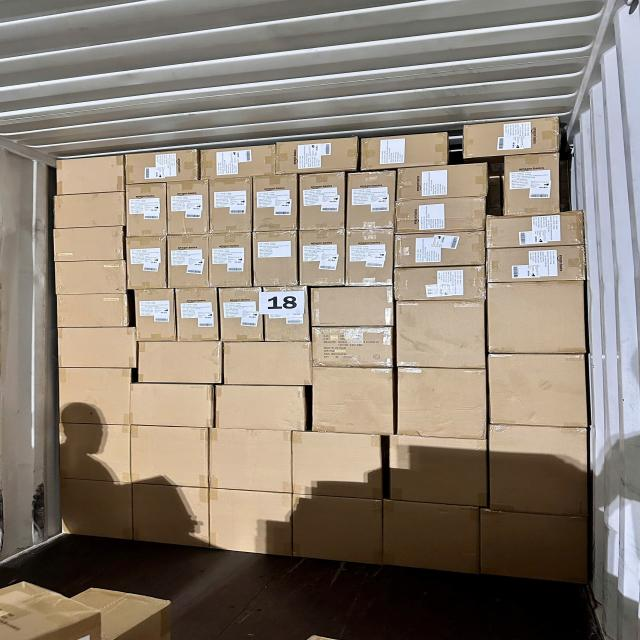Carton: (491, 430, 590, 519), (478, 512, 588, 589), (383, 500, 481, 579), (487, 351, 587, 427), (486, 280, 586, 354), (389, 433, 489, 505), (294, 496, 386, 569), (294, 430, 388, 500), (397, 364, 488, 436), (397, 168, 490, 236), (396, 302, 486, 372), (311, 368, 395, 438), (206, 491, 291, 560), (208, 429, 292, 495), (129, 427, 209, 490), (134, 488, 212, 552), (62, 478, 135, 542), (60, 421, 134, 483), (56, 367, 130, 428), (216, 386, 308, 434), (221, 340, 310, 386), (136, 341, 223, 386), (462, 119, 561, 158), (130, 384, 213, 430), (505, 156, 562, 218), (309, 284, 393, 326), (489, 249, 587, 285), (485, 213, 584, 248), (312, 327, 396, 368), (58, 327, 139, 369), (395, 265, 486, 302), (395, 230, 487, 266), (360, 134, 449, 171), (394, 199, 486, 233), (395, 168, 487, 202), (280, 136, 362, 174), (346, 170, 395, 230), (200, 143, 277, 180), (345, 228, 393, 287), (56, 158, 126, 198), (302, 172, 348, 232), (298, 230, 346, 287), (253, 176, 299, 233), (54, 193, 126, 229), (263, 285, 309, 341), (254, 229, 299, 286), (54, 292, 128, 326), (128, 148, 202, 182), (217, 290, 261, 345), (54, 226, 125, 260), (53, 262, 126, 295), (208, 179, 251, 235), (174, 288, 218, 342), (210, 235, 252, 291), (170, 182, 212, 237), (126, 184, 168, 239), (170, 237, 211, 291), (134, 292, 176, 344), (126, 236, 166, 290)
